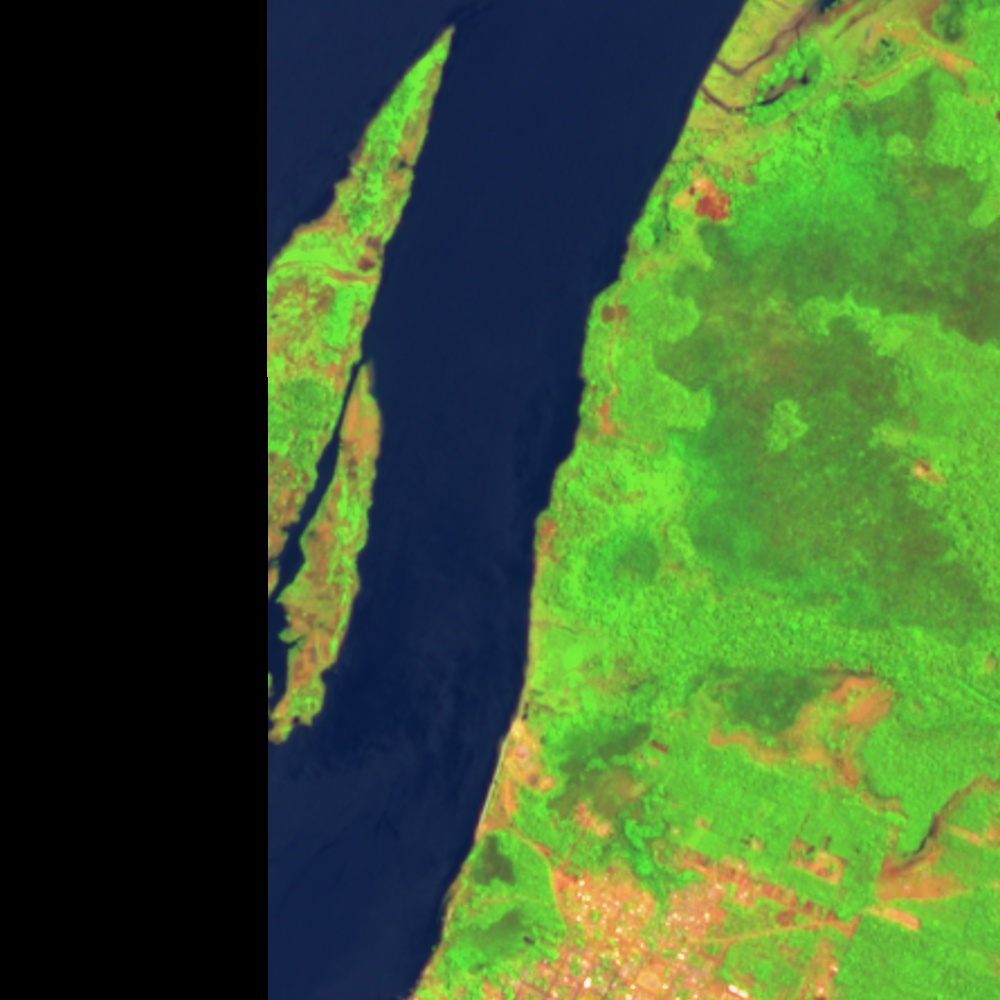legal: (261, 24, 458, 309), (242, 360, 380, 631), (686, 1, 869, 125), (518, 379, 619, 575), (642, 119, 755, 238), (488, 684, 570, 793), (916, 455, 958, 495), (598, 292, 629, 331)
